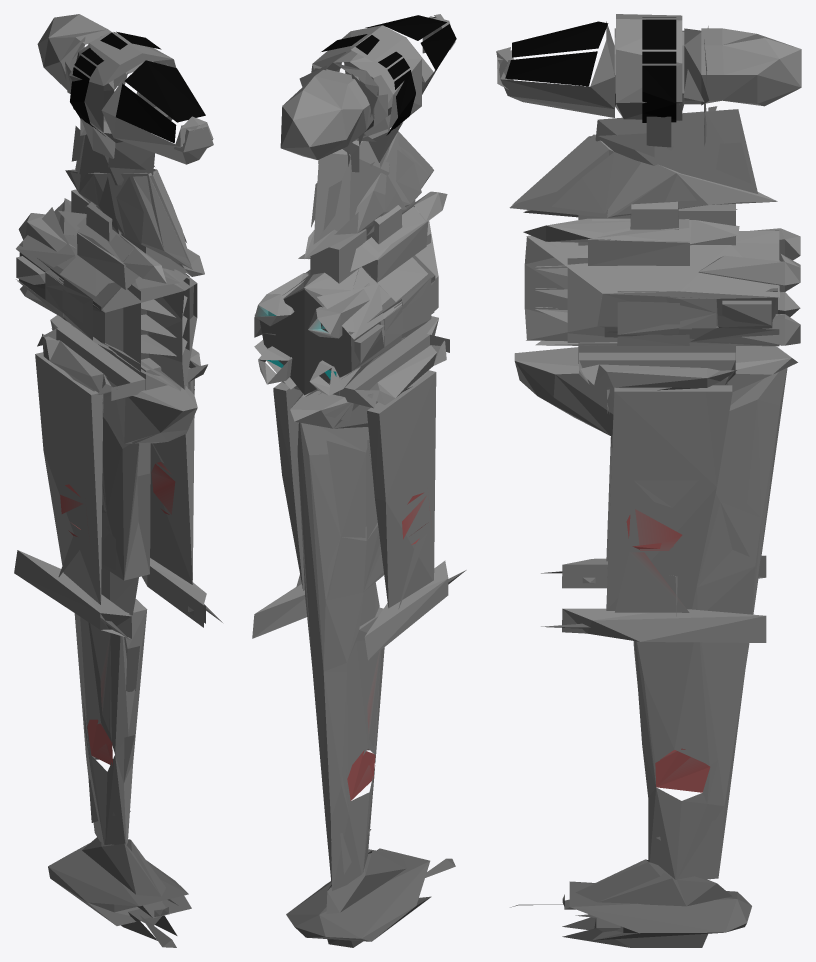
The model's file is bwing.glb.
3 renders of one model, left to right at view 1: azimuth 30°, elevation 25°; view 2: azimuth 150°, elevation 25°; view 3: azimuth 270°, elevation 25°, orthographic. The views are drawn at different scales.
Parts seen in each view (by area): view 1: bwing; view 2: bwing; view 3: bwing.
Part boxes in pixels (x1,y1,x2,y2): bwing: [14, 14, 222, 947]; bwing: [252, 14, 466, 947]; bwing: [496, 14, 801, 947].
Bounding box in the file's own units: 1.96 × 13.96 × 4.19.
